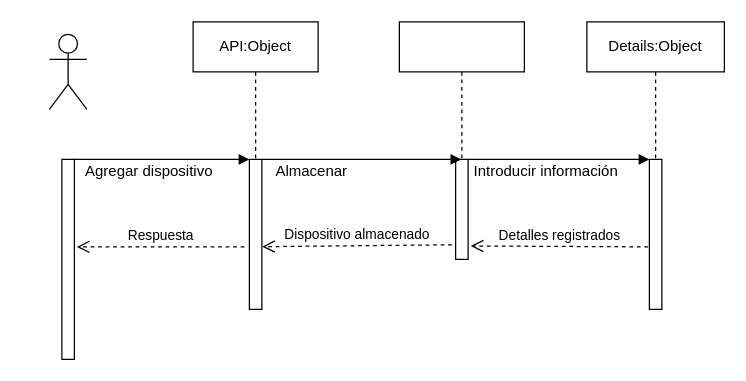
This 746x381 diagram has some shape labels left out. Here are the shapes that lost their labels. From the top down, the box of each, then its label:
(48, 33, 87, 109): ADMIN/USER
(398, 21, 524, 159): DataBase:Object
